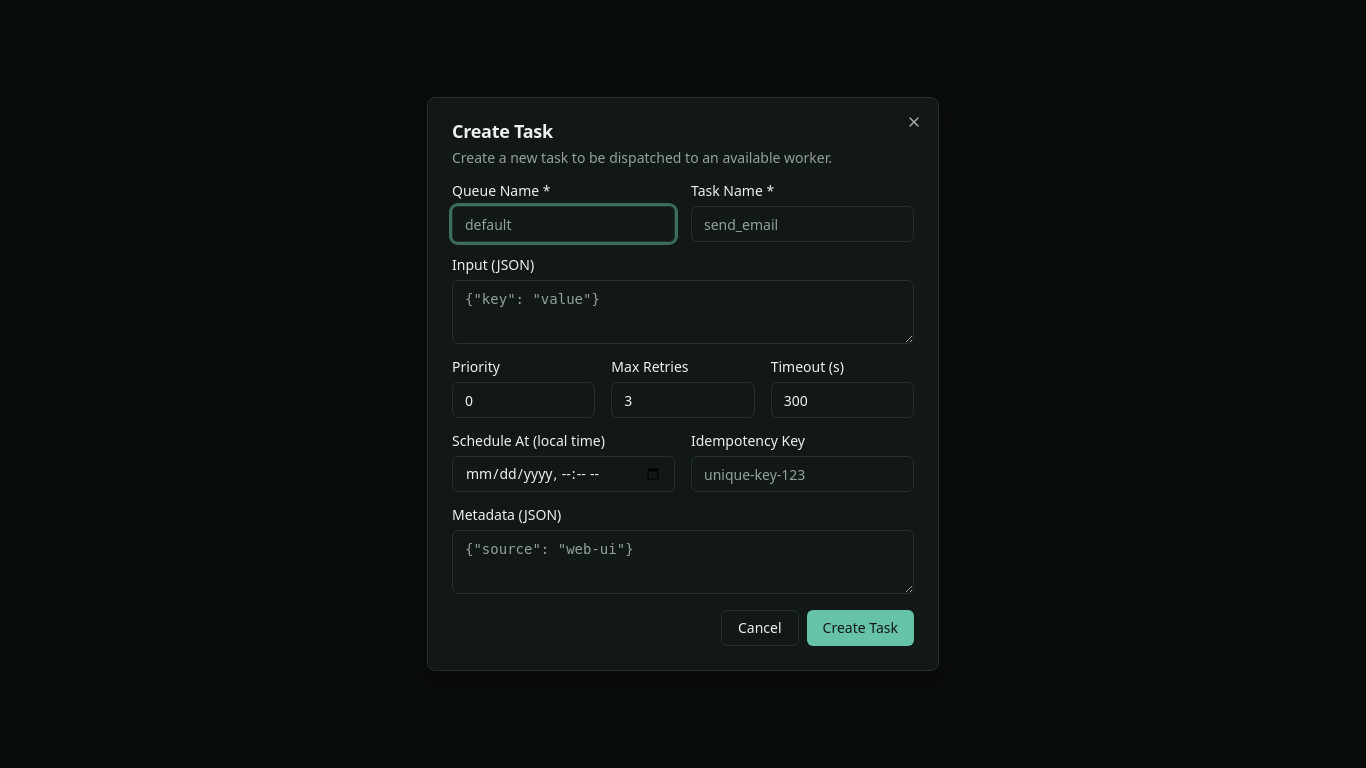
Test: TaskCreateDialog › forgets what was typed when it is cancelled
The width and height of the screenshot is (1366, 768).
In the field labelled "Schedule At (local time)": (564, 474) [452,456,675,492], type "2026-10-22T14:30"
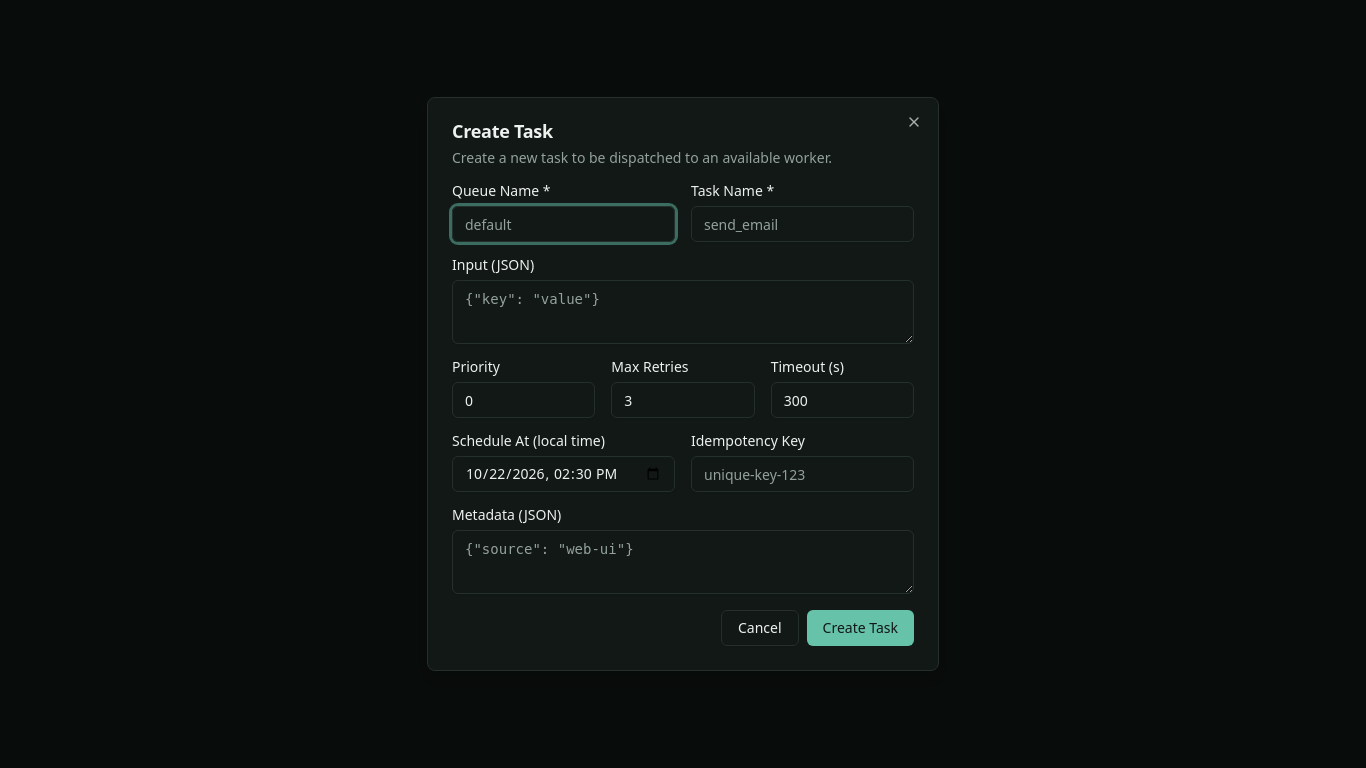
In the field labelled "Queue Name *": (564, 224) [452,206,675,242], type "emails"
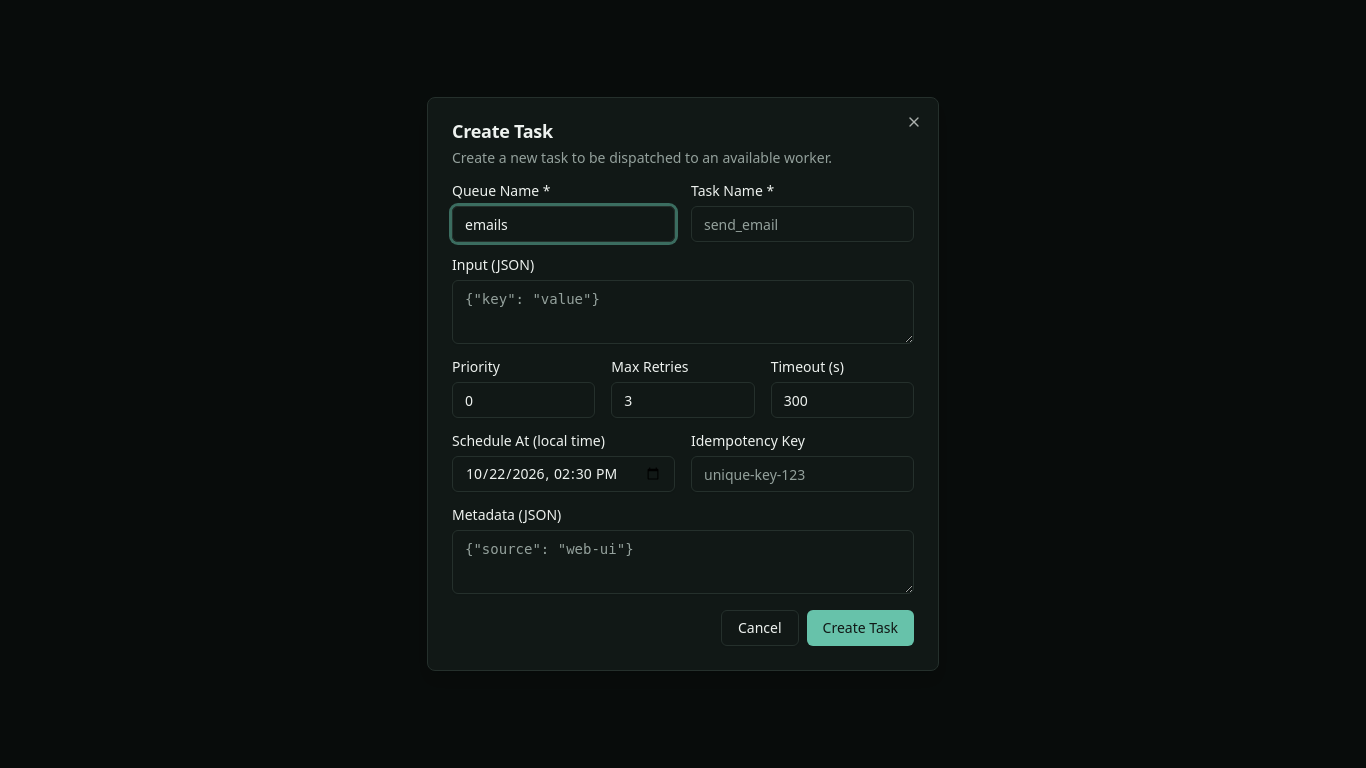
Click the button "Cancel": (760, 628) [721,610,799,646]
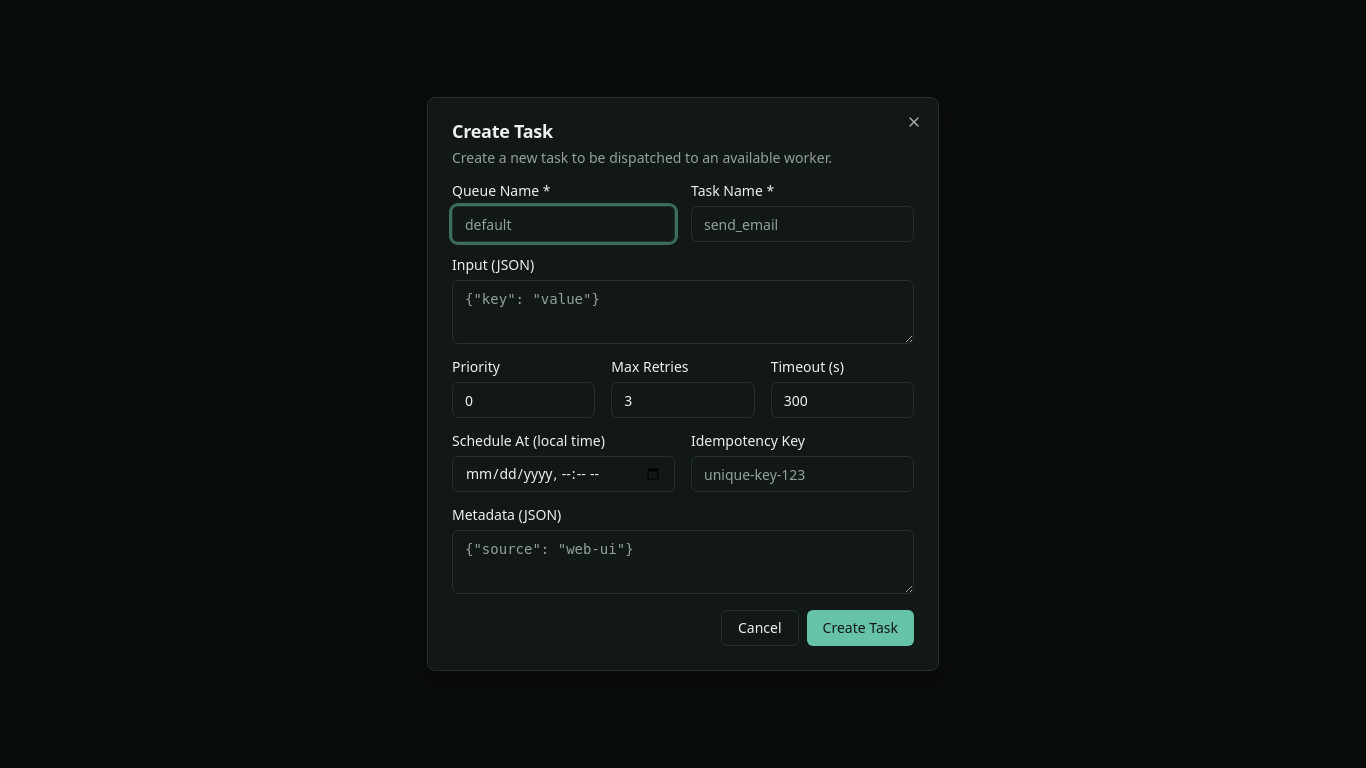
Check: the field labelled "Schedule At (local time)" is empty, box [452,456,675,492]
Check: the field labelled "Queue Name *" is empty, box [452,206,675,242]
